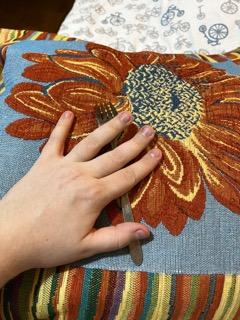fork: (93, 101, 145, 268)
